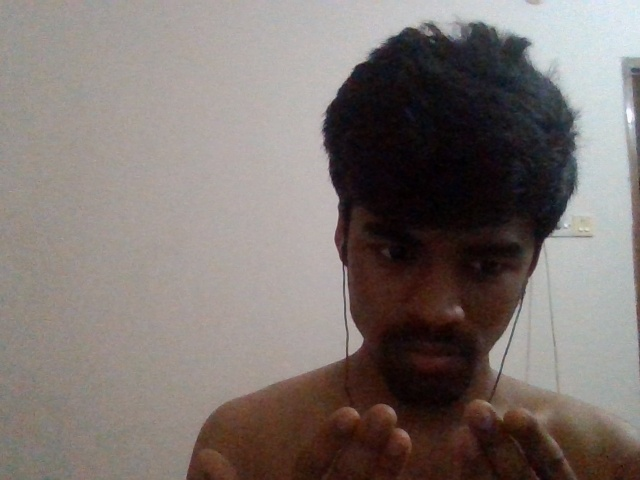Thanks: (188, 396, 636, 480)
